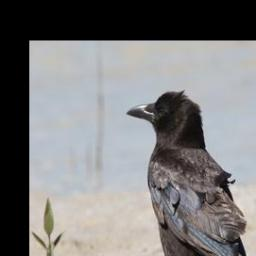Crow: (125, 88, 256, 256)
